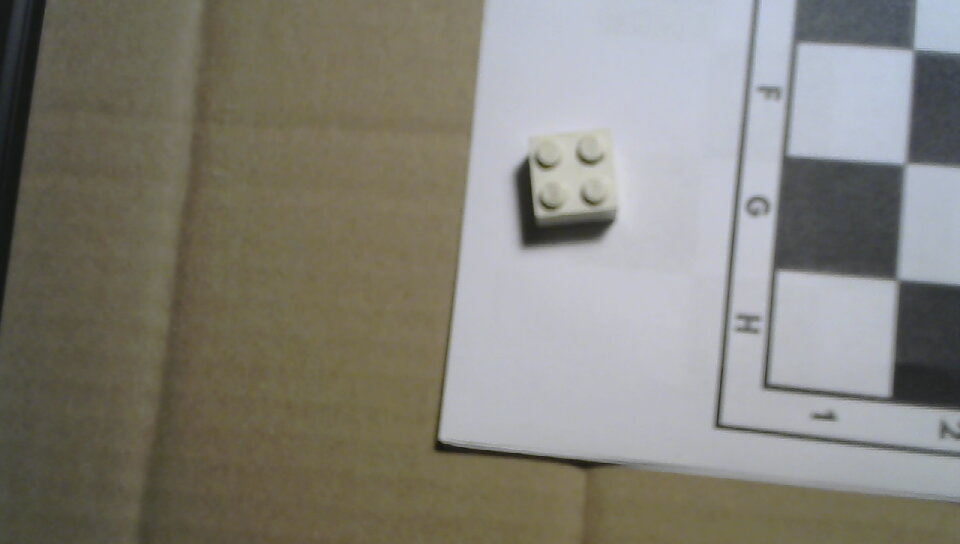wp: (509, 123, 629, 239)
